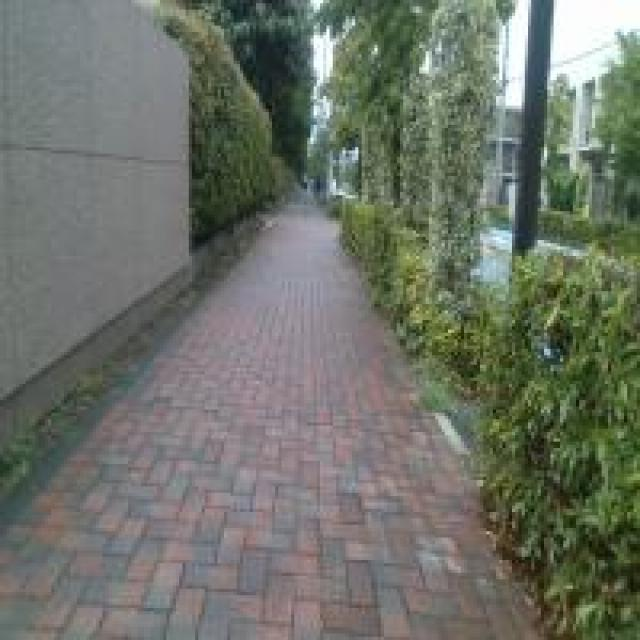Obstacle: (343, 0, 639, 639), (161, 12, 275, 242), (190, 0, 313, 180), (328, 0, 419, 199), (512, 0, 553, 255)
Sidewalk: (0, 205, 538, 639)
